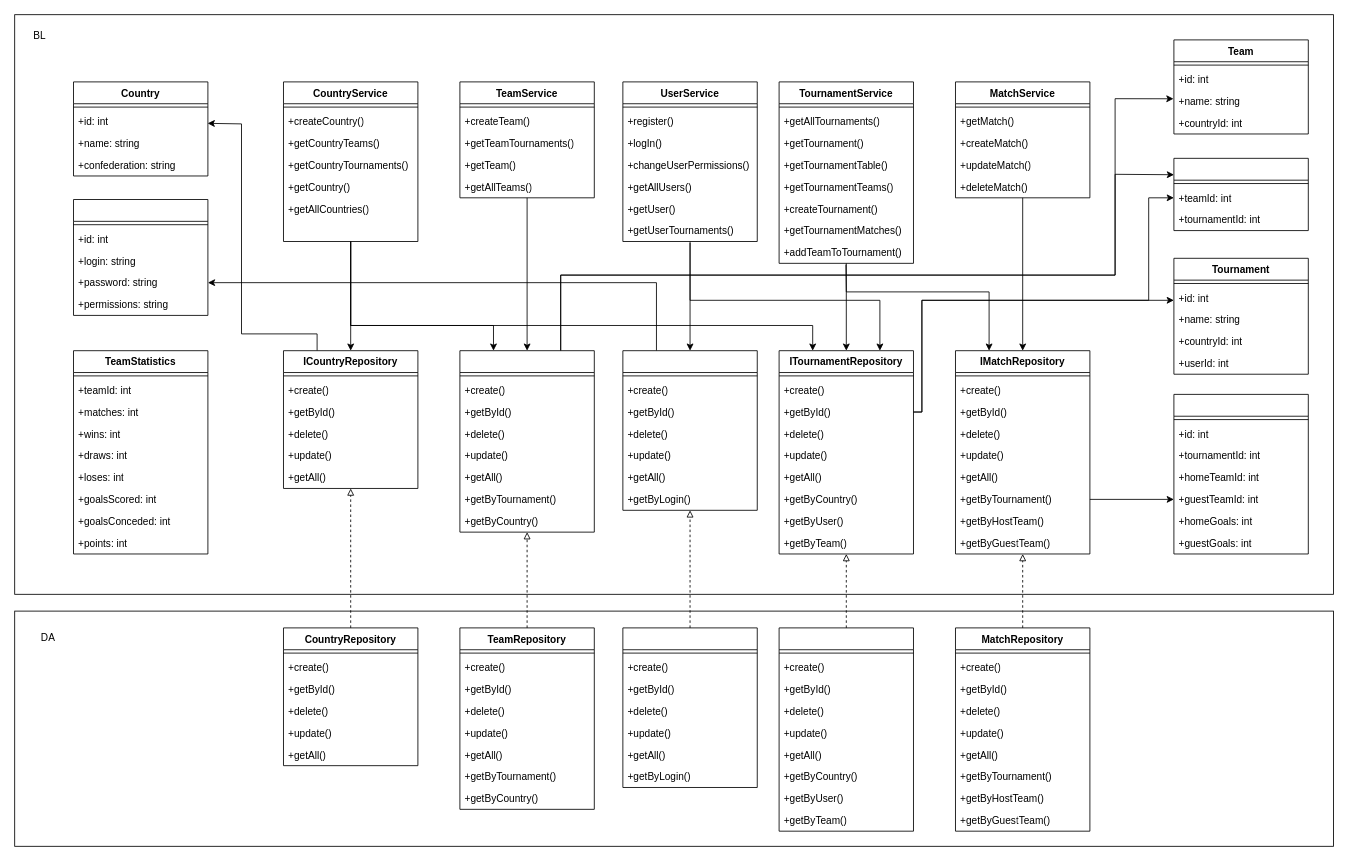
The diagram is 1348 pixels wide and 861 high, and some of its shapes have lost their labels. The box of each missing label's shape, as (x1, y1, x2, y2) in pixels:
ITeamRepository: (459, 350, 594, 532)
IUserRepository: (622, 350, 757, 510)
Match: (1173, 394, 1308, 554)
TeamTournament: (1173, 158, 1308, 231)
TournamentRepository: (778, 627, 914, 831)
User: (73, 199, 208, 315)
UserRepository: (622, 627, 757, 788)
